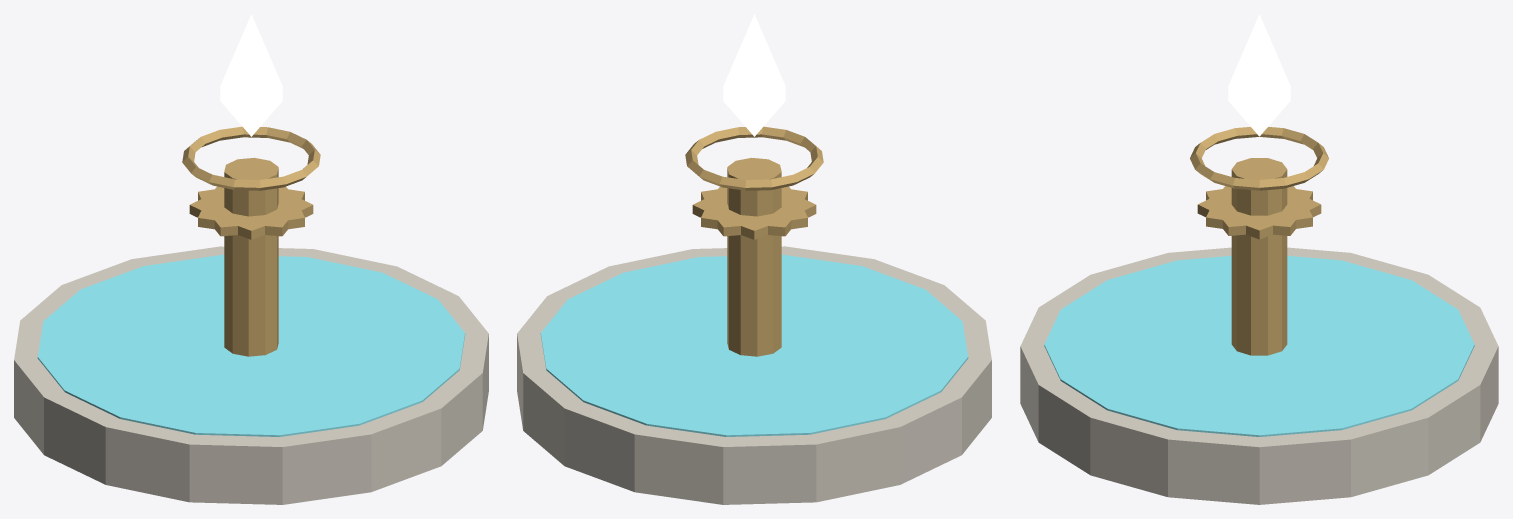
The model's file is Cite_Fontaine.fbx.
3 renders of one model, left to right at view 1: azimuth 30°, elevation 25°; view 2: azimuth 150°, elevation 25°; view 3: azimuth 270°, elevation 25°, orthographic.
Parts seen in each view (by area): view 1: Cite_Fontaine_Noyau, Cite_Fontaine_Pierre, Cite_Fontaine_Laiton, Cite_Fontaine_Cristal; view 2: Cite_Fontaine_Noyau, Cite_Fontaine_Pierre, Cite_Fontaine_Laiton, Cite_Fontaine_Cristal; view 3: Cite_Fontaine_Noyau, Cite_Fontaine_Pierre, Cite_Fontaine_Laiton, Cite_Fontaine_Cristal.
Part boxes in pixels (x1=…): Cite_Fontaine_Noyau: x1=37, y1=254, x2=465, y2=436; Cite_Fontaine_Pierre: x1=14, y1=246, x2=488, y2=504; Cite_Fontaine_Laiton: x1=182, y1=126, x2=320, y2=356; Cite_Fontaine_Cristal: x1=220, y1=14, x2=282, y2=136; Cite_Fontaine_Noyau: x1=540, y1=254, x2=968, y2=436; Cite_Fontaine_Pierre: x1=517, y1=246, x2=991, y2=504; Cite_Fontaine_Laiton: x1=685, y1=126, x2=823, y2=356; Cite_Fontaine_Cristal: x1=723, y1=14, x2=785, y2=136; Cite_Fontaine_Noyau: x1=1044, y1=256, x2=1474, y2=436; Cite_Fontaine_Pierre: x1=1020, y1=247, x2=1498, y2=504; Cite_Fontaine_Laiton: x1=1190, y1=127, x2=1328, y2=355; Cite_Fontaine_Cristal: x1=1228, y1=14, x2=1290, y2=136.
Bounding box in the file's own units: 12 × 10.8 × 12.
